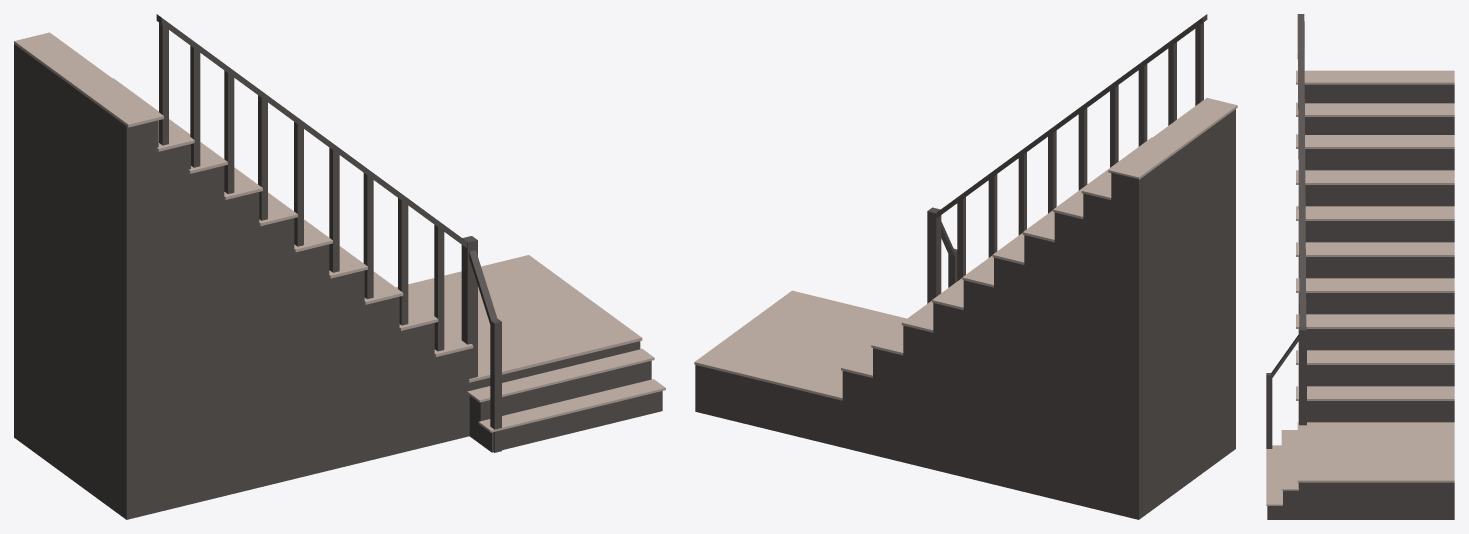
The model's file is Stairs_02.fbx.
3 views of the same model, side by side, from view 1: azimuth 30°, elevation 25°; view 2: azimuth 150°, elevation 25°; view 3: azimuth 270°, elevation 25° (orthographic). The views are drawn at different scales.
Parts seen in each view (by area): view 1: Stairs_02; view 2: Stairs_02; view 3: Stairs_02.
Boxes of the visible parts, x1=… form: Stairs_02: x1=14, y1=14, x2=665, y2=519; Stairs_02: x1=694, y1=14, x2=1237, y2=519; Stairs_02: x1=1266, y1=14, x2=1454, y2=519.
Bounding box in the file's own units: 345 × 316 × 157.
